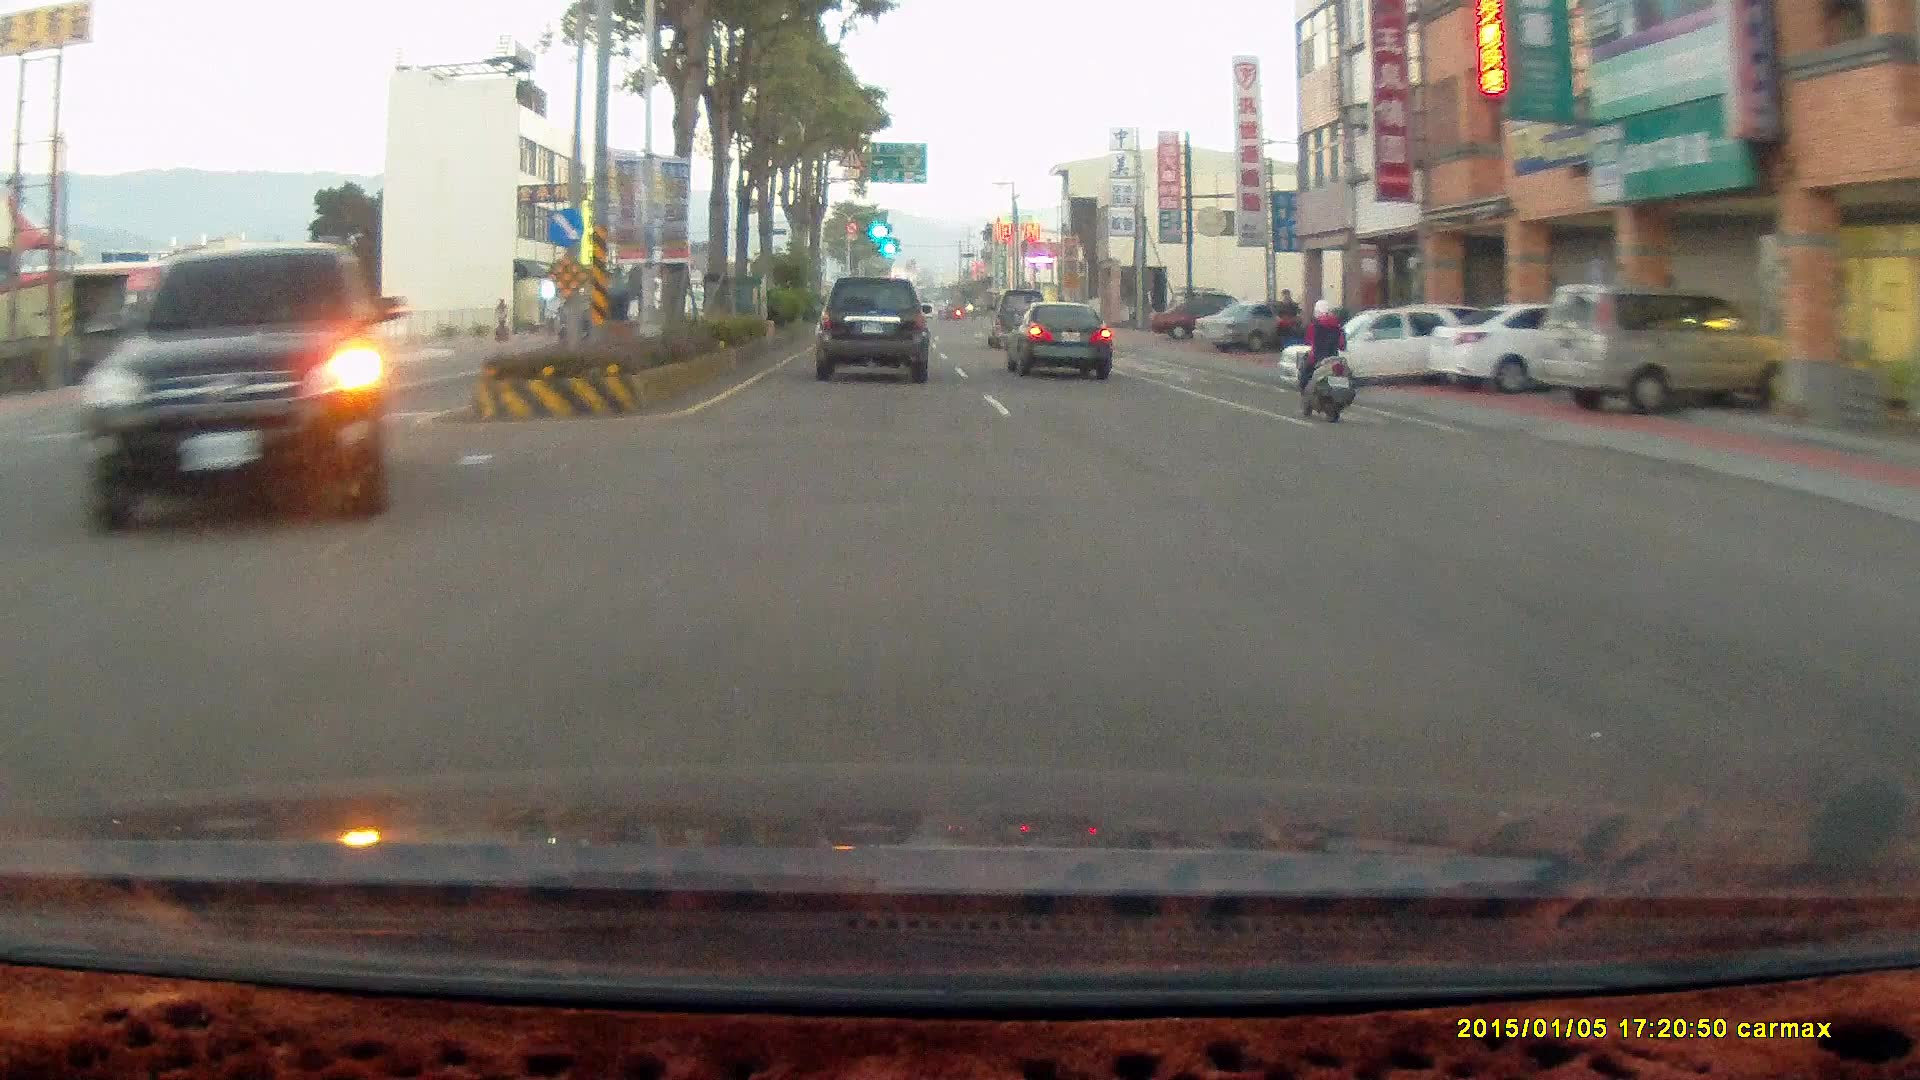pedestrian: (1270, 288, 1301, 364)
rider: (1282, 290, 1368, 427), (1291, 297, 1356, 423)
vehicle: (75, 242, 406, 534), (68, 242, 385, 536), (1527, 281, 1793, 428), (1531, 282, 1800, 415), (1426, 301, 1665, 397), (1280, 308, 1503, 402), (1423, 298, 1634, 393), (1278, 305, 1477, 391), (814, 276, 933, 385), (813, 275, 930, 384), (1007, 302, 1123, 383), (1004, 299, 1109, 379), (1195, 303, 1314, 357), (1194, 301, 1313, 354), (1150, 297, 1258, 341), (984, 287, 1051, 346)
